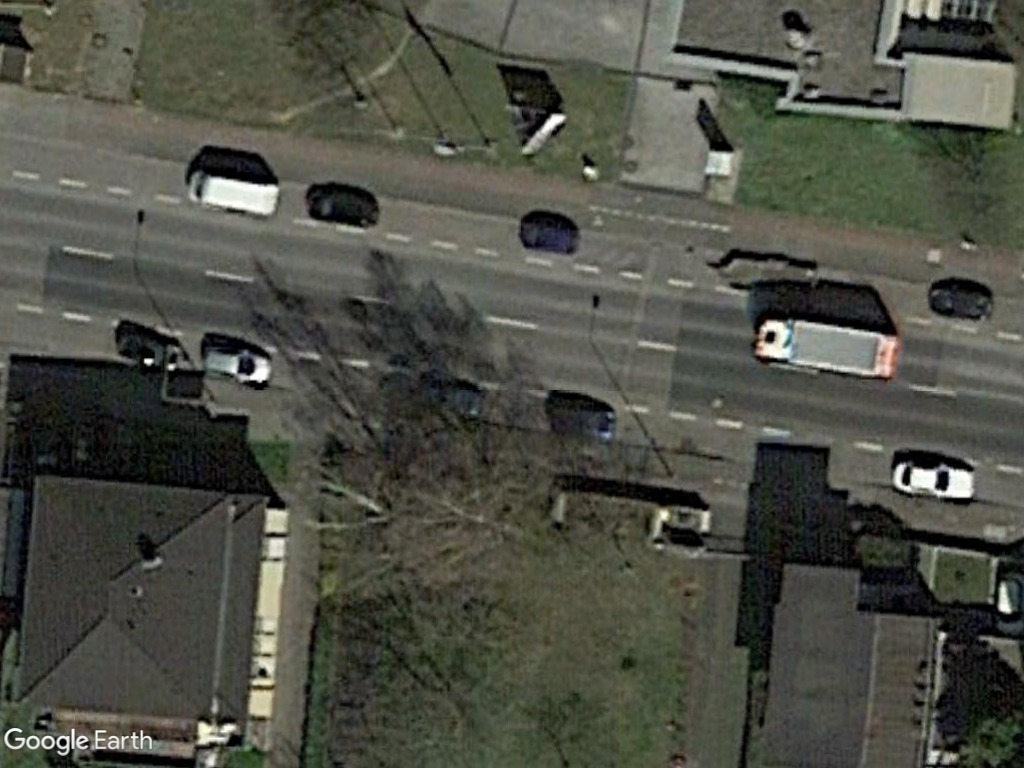car: (887, 457, 979, 503), (196, 340, 275, 389)
van: (186, 165, 287, 222)
